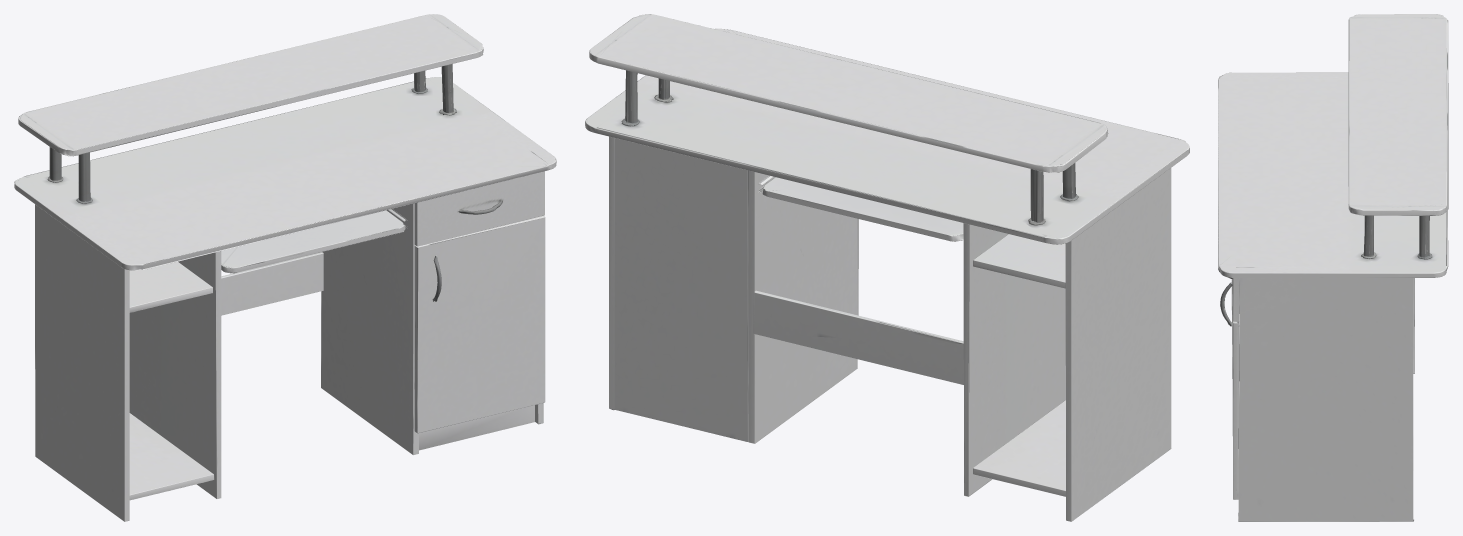
File: Meshy_AI_White_Office_Desk_1020124626_texture.glb
3 views of the same model, side by side, from view 1: azimuth 30°, elevation 25°; view 2: azimuth 150°, elevation 25°; view 3: azimuth 270°, elevation 25° (orthographic). The views are drawn at different scales.
Bounding box in the file's own units: 0.9487 × 0.6919 × 0.4604.
1 material, 1 textured.
